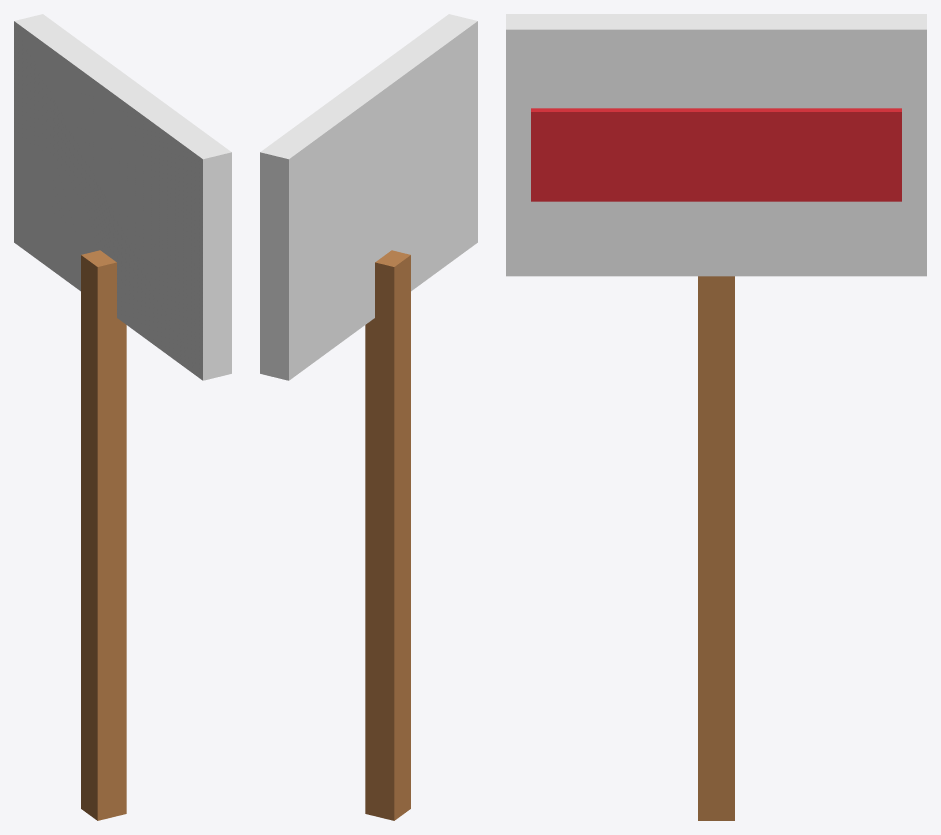
File: pancarte_vendu.glb
3 views of the same model, side by side, from view 1: azimuth 30°, elevation 25°; view 2: azimuth 150°, elevation 25°; view 3: azimuth 270°, elevation 25° (orthographic). The views are drawn at different scales.
Parts seen in each view (by area): view 1: p_box.8300, p_box.8299; view 2: p_box.8300, p_box.8299; view 3: p_box.8300, p_box.8301, p_box.8299.
Boxes of the visible parts, box(x1,y1,x2,y2) form: p_box.8300: box(14, 14, 231, 380); p_box.8299: box(81, 250, 126, 820); p_box.8300: box(260, 14, 477, 380); p_box.8299: box(365, 250, 410, 820); p_box.8300: box(506, 14, 926, 276); p_box.8301: box(531, 108, 901, 201); p_box.8299: box(698, 276, 734, 820).
Size of the model in its own units: 0.0575 by 0.715 by 0.34.
